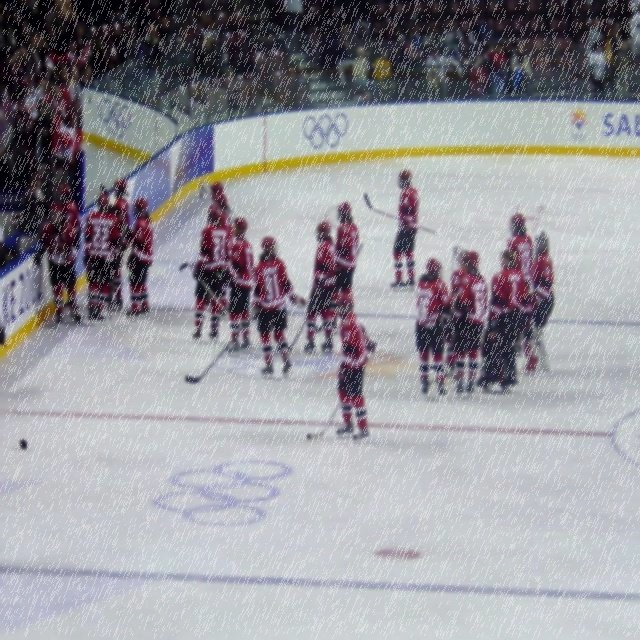pessoa: (246, 234, 308, 382), (331, 285, 378, 447), (31, 200, 85, 331), (1, 129, 51, 264), (80, 188, 123, 327), (446, 251, 488, 393), (189, 198, 230, 340), (412, 255, 452, 398), (300, 218, 338, 356), (497, 247, 530, 391), (221, 215, 255, 352), (53, 178, 85, 312), (357, 15, 503, 44), (387, 166, 420, 294), (123, 196, 155, 323), (530, 230, 557, 374), (477, 266, 502, 390), (108, 177, 131, 308), (334, 201, 359, 320), (49, 130, 91, 198), (450, 44, 490, 94), (218, 202, 235, 318), (444, 270, 461, 386), (506, 211, 535, 276), (334, 19, 357, 90), (482, 40, 509, 95), (372, 45, 397, 104), (587, 38, 608, 102), (614, 37, 633, 107), (512, 41, 535, 96), (607, 19, 624, 90), (207, 180, 232, 226), (425, 47, 446, 100), (396, 42, 421, 74), (352, 44, 370, 82), (588, 16, 605, 54), (194, 177, 215, 203), (447, 241, 465, 271), (606, 33, 614, 95), (472, 250, 481, 274)
